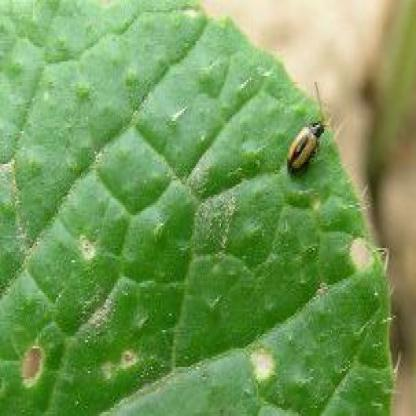beetle: (282, 90, 326, 183)
